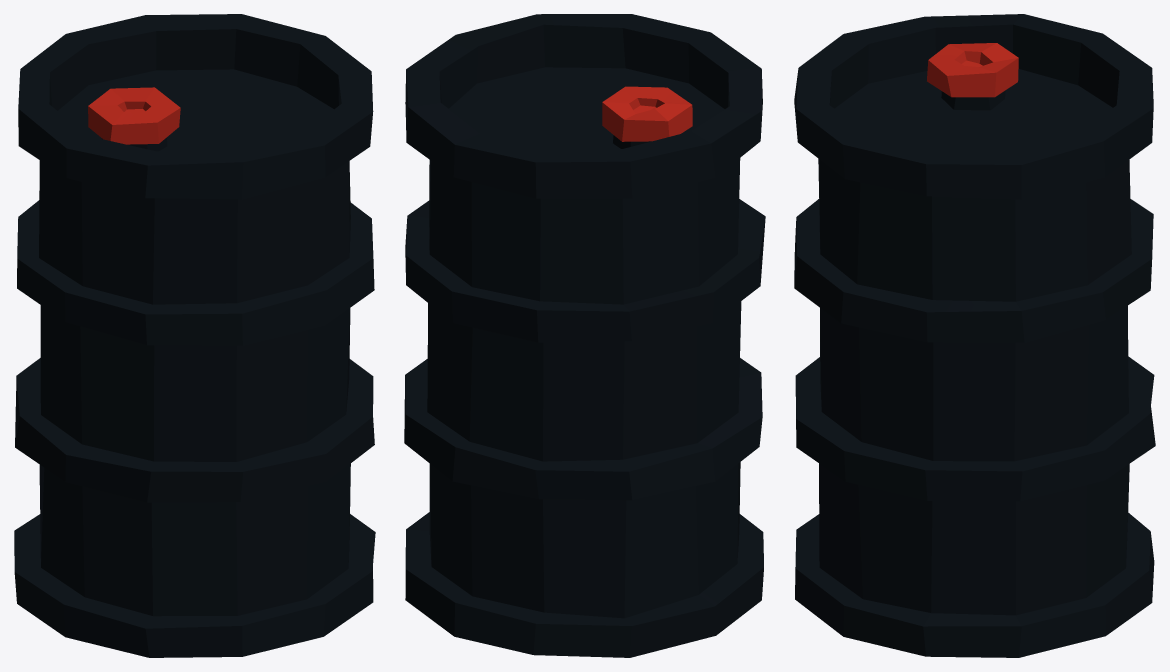
The model's file is Barrel_2_3_4.fbx.
3 views of the same model, side by side, from view 1: azimuth 30°, elevation 25°; view 2: azimuth 150°, elevation 25°; view 3: azimuth 270°, elevation 25° (orthographic).
Parts seen in each view (by area): view 1: Barrel_2_3_4; view 2: Barrel_2_3_4; view 3: Barrel_2_3_4.
Part boxes in pixels (box(x1,y1,x2,y2)): Barrel_2_3_4: box(14, 14, 375, 657); Barrel_2_3_4: box(404, 14, 765, 657); Barrel_2_3_4: box(794, 14, 1155, 657).
Bounding box in the file's own units: 23.22 × 35.34 × 23.27.
